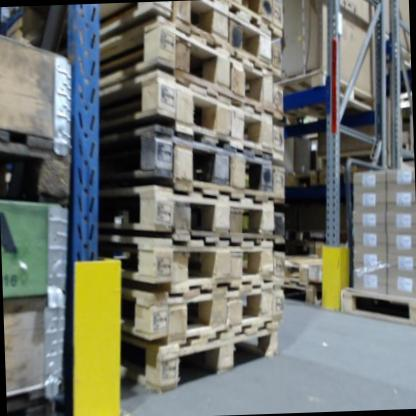pallet: (96, 17, 285, 118), (98, 68, 288, 160), (102, 122, 286, 208), (101, 0, 282, 72), (99, 183, 285, 250), (101, 226, 288, 288), (121, 328, 283, 392), (117, 281, 285, 342), (0, 123, 75, 207), (281, 63, 378, 119), (339, 286, 416, 331), (285, 279, 325, 304)
